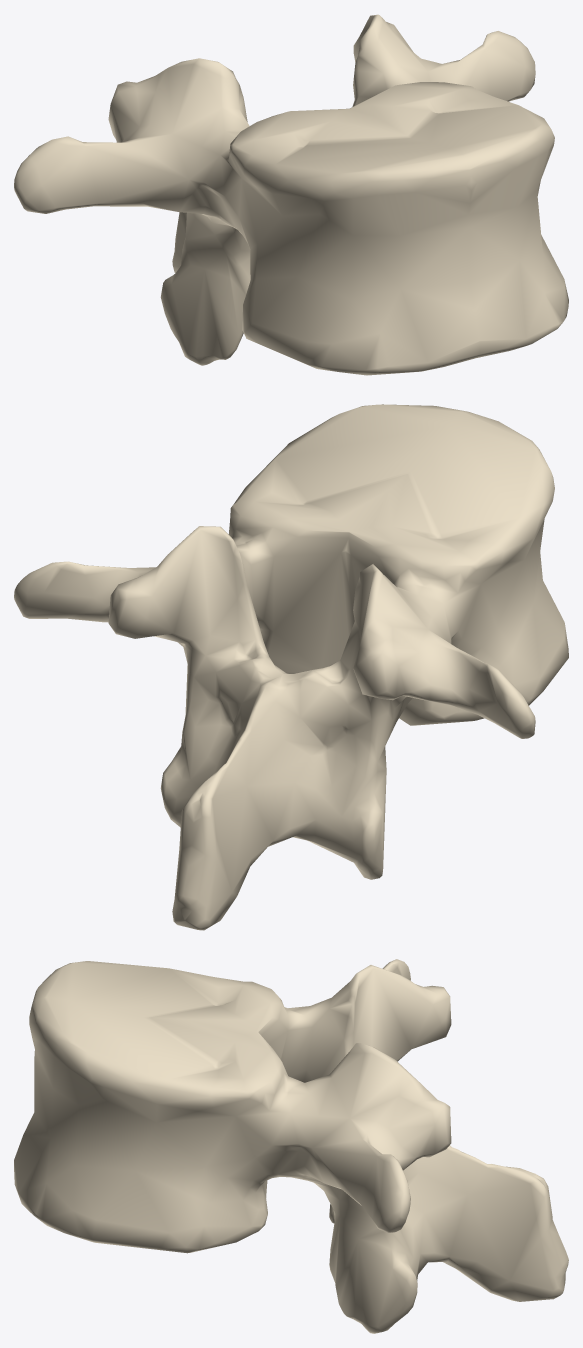
Rendered from vertebra-l2.glb.
The picture shows the model from 3 angles, top to bottom: view 1: azimuth 30°, elevation 25°; view 2: azimuth 150°, elevation 25°; view 3: azimuth 270°, elevation 25°; orthographic projection. The views are drawn at different scales.
Parts seen in each view (by area): view 1: Vertebra L2; view 2: Vertebra L2; view 3: Vertebra L2.
Part boxes in pixels (box(x1,y1,x2,y2)): Vertebra L2: box(14, 14, 568, 375); Vertebra L2: box(14, 404, 568, 930); Vertebra L2: box(14, 959, 568, 1333).
Bounding box in the file's own units: 0.0838 × 0.0497 × 0.0831.
